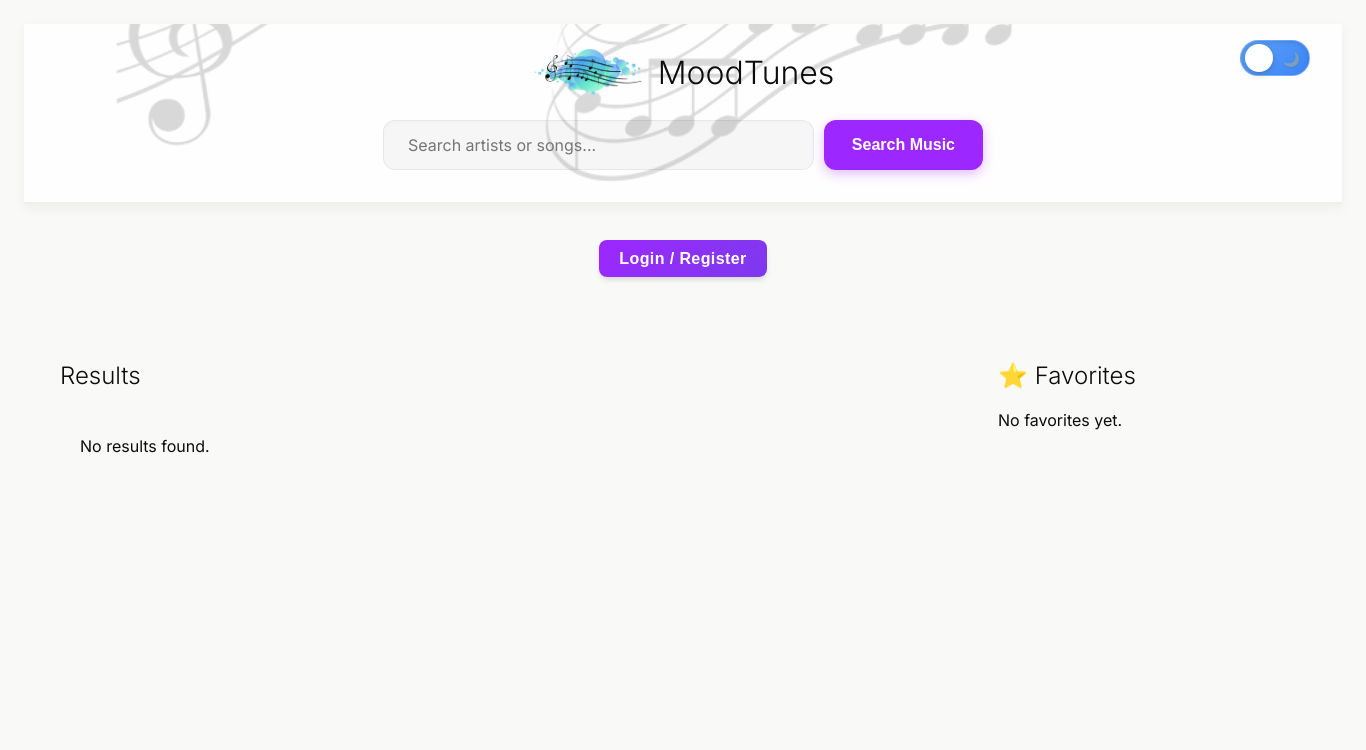
Scenario: App Component › Search Flow › performs manual search
Type "Query" into the field with placeholder "Search artists or songs..." at (598, 145), box [383,120,814,170]
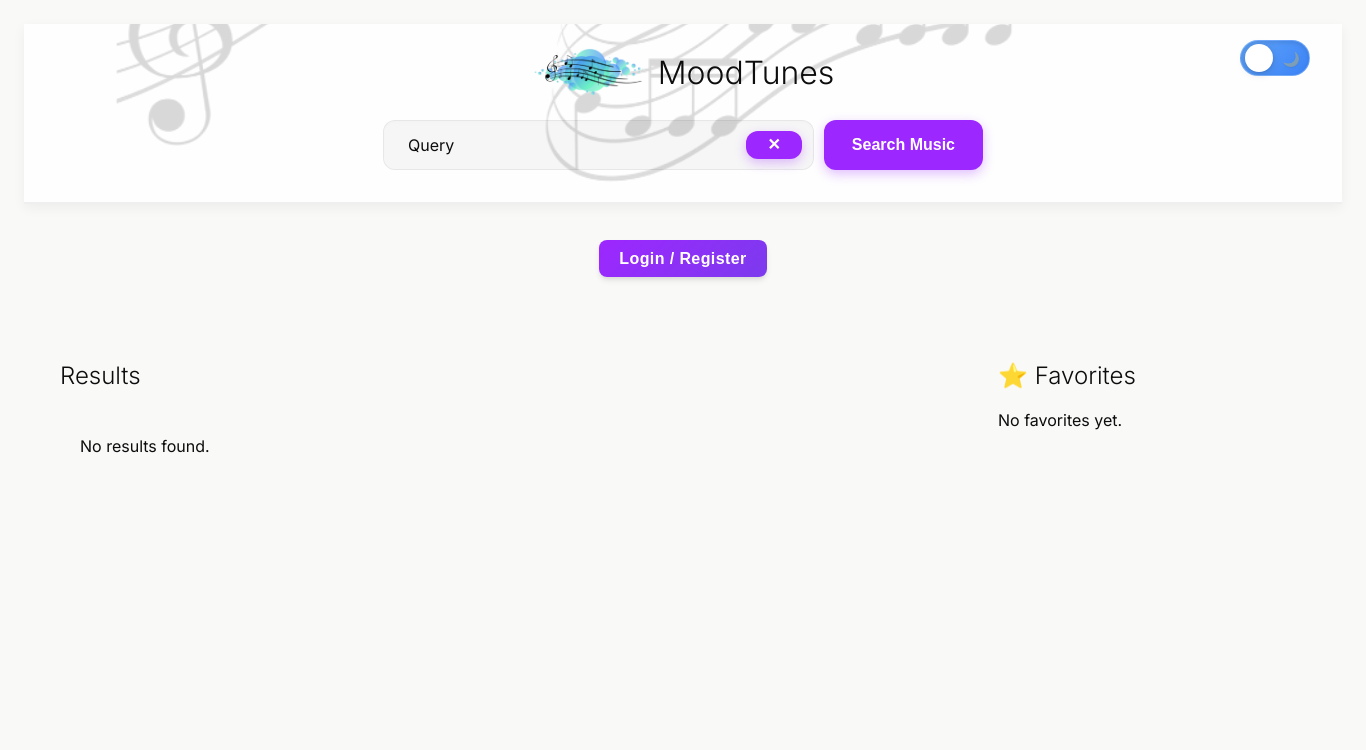
Note: Use precise name to avoid matching "Clear search"
Click the button "Search Music" at (903, 145), box [824,120,983,170]
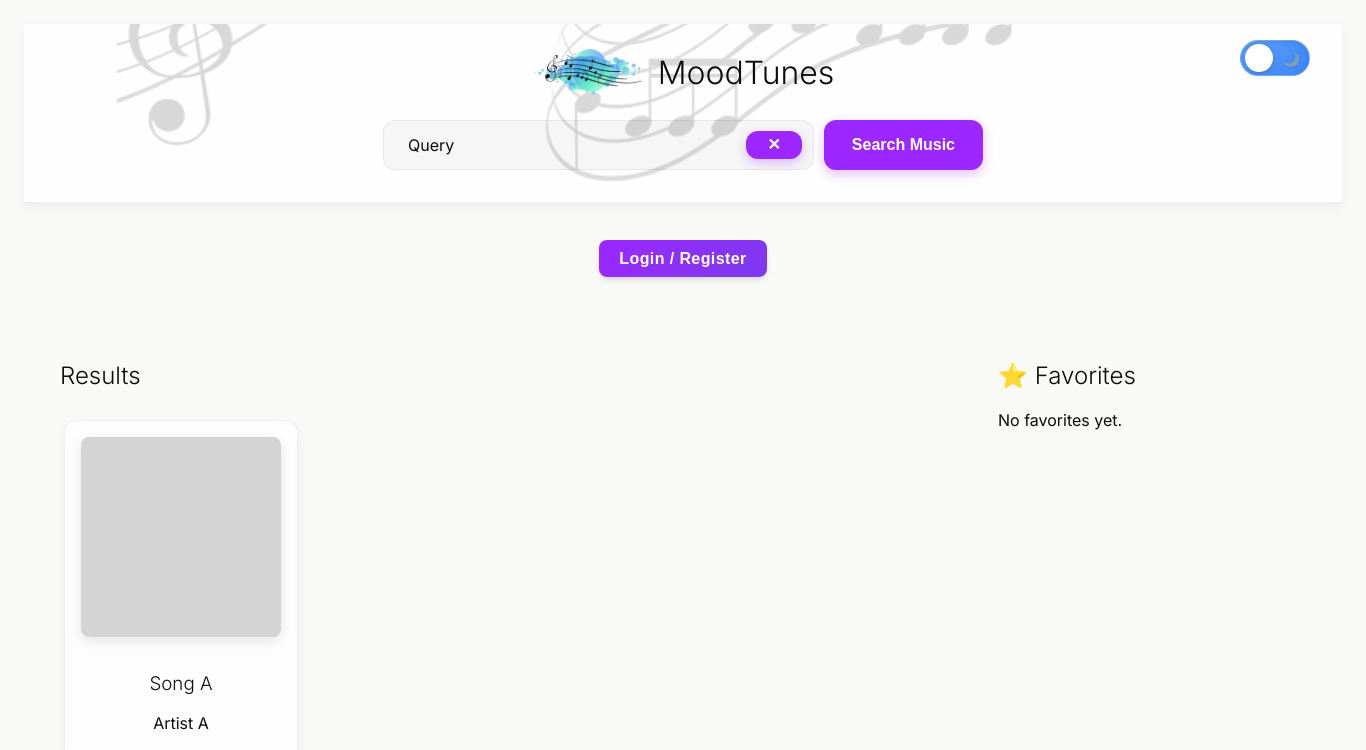
Check: the heading "Song A" is shown, box [150,672,212,695]
Check: the text "Artist A" is shown, box [153,713,209,733]
